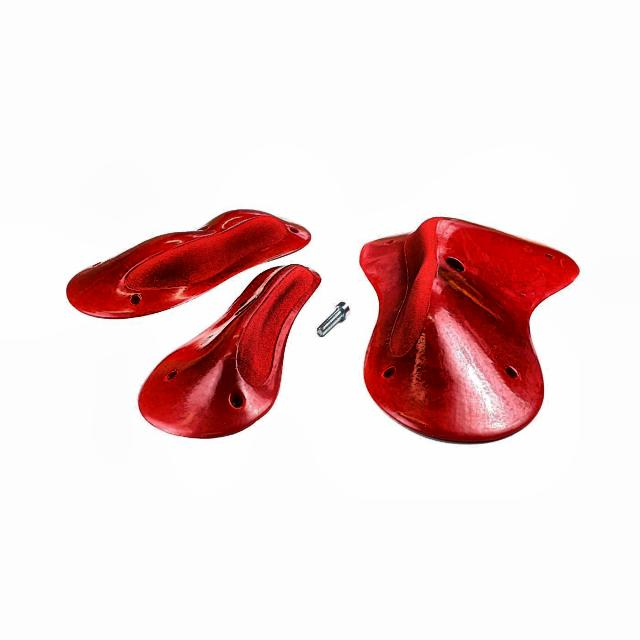Hold: (358, 216, 575, 448), (136, 261, 321, 444), (65, 207, 314, 319)
